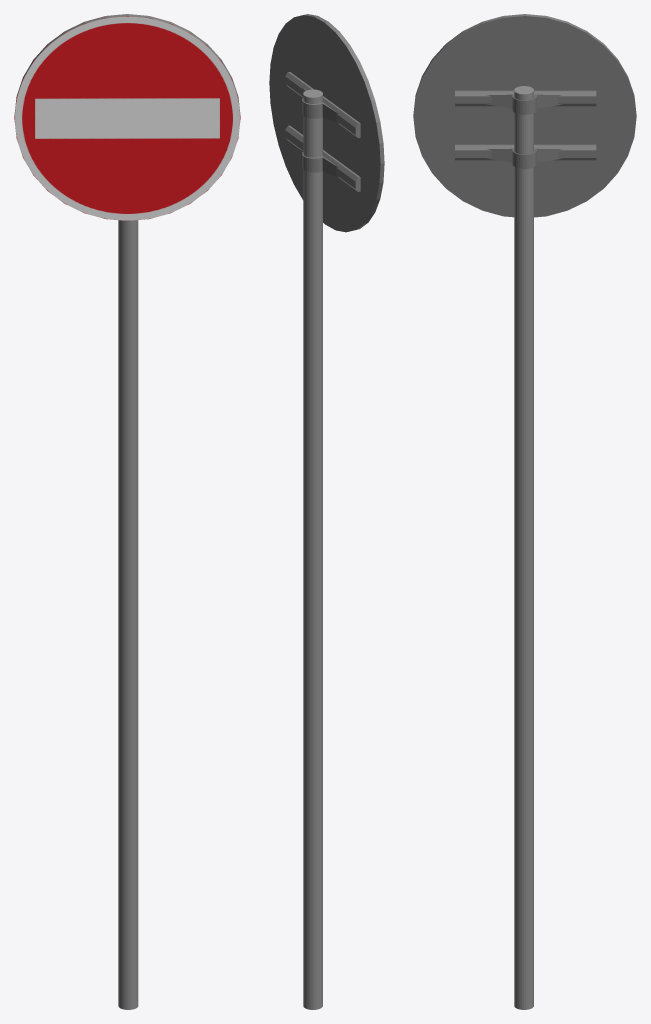
3 renders of one model, left to right at view 1: azimuth 90°, elevation 25°; view 2: azimuth 210°, elevation 25°; view 3: azimuth 270°, elevation 25°, orthographic.
Visible parts, largest first — view 1: 020, Prop; view 2: Prop, 020; view 3: 020, Prop.
Part boxes in pixels (x1,y1,x2,y2): 020: [14, 14, 240, 220]; Prop: [118, 220, 138, 1009]; Prop: [285, 72, 360, 1009]; 020: [269, 14, 384, 232]; 020: [413, 14, 636, 217]; Prop: [455, 86, 596, 1009].
Bounding box in the file's own units: 6.76 × 253 × 52.01.
